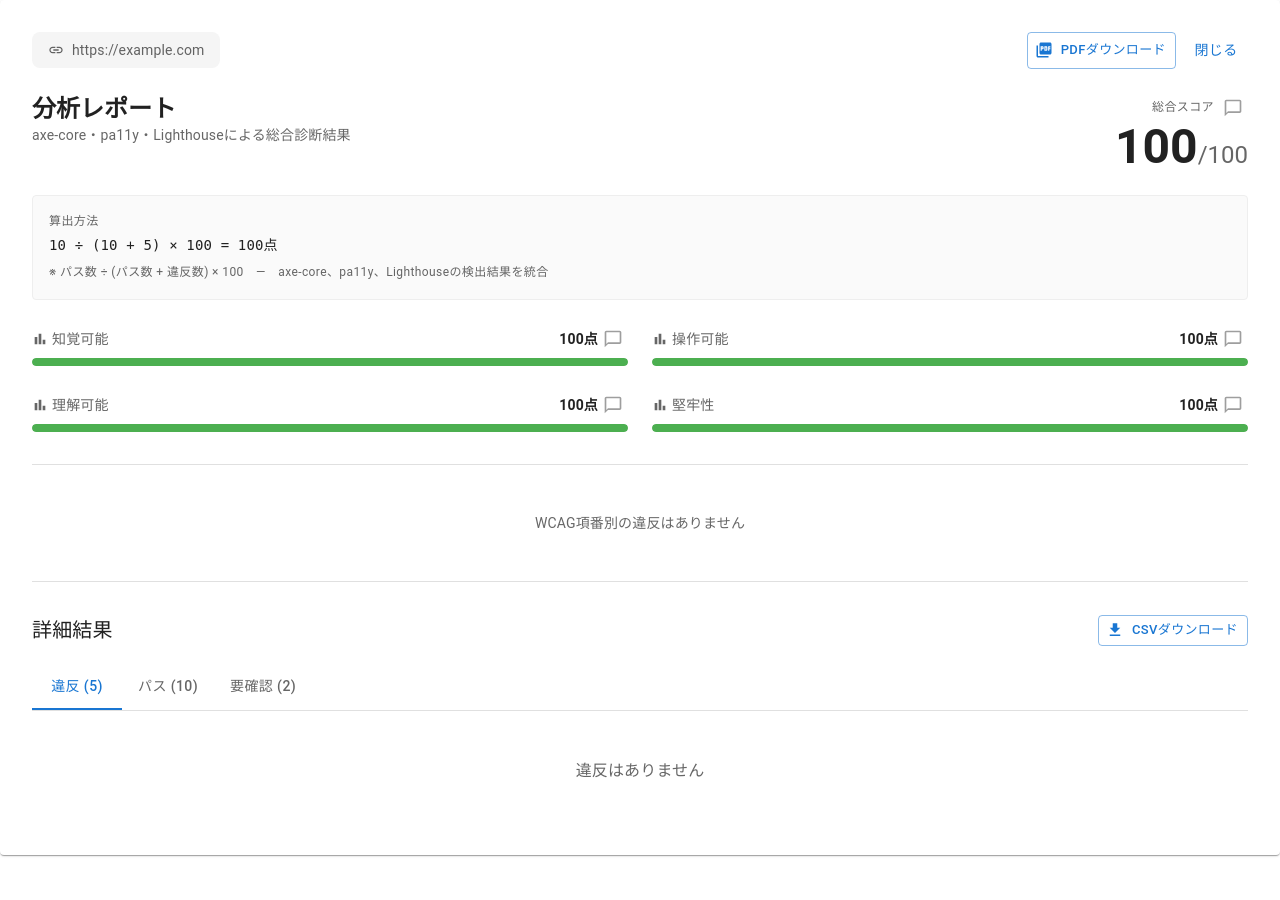
ReportSummary › Task 5: UI統合 - レポートPDFダウンロードボタン › Task 5.4: エラーハンドリングと再試行機能 › PDF生成成功時にSnackbarで成功メッセージが表示されること
Click the button "PDFダウンロード".
click(1101, 50)  # box [1027,32,1176,68]
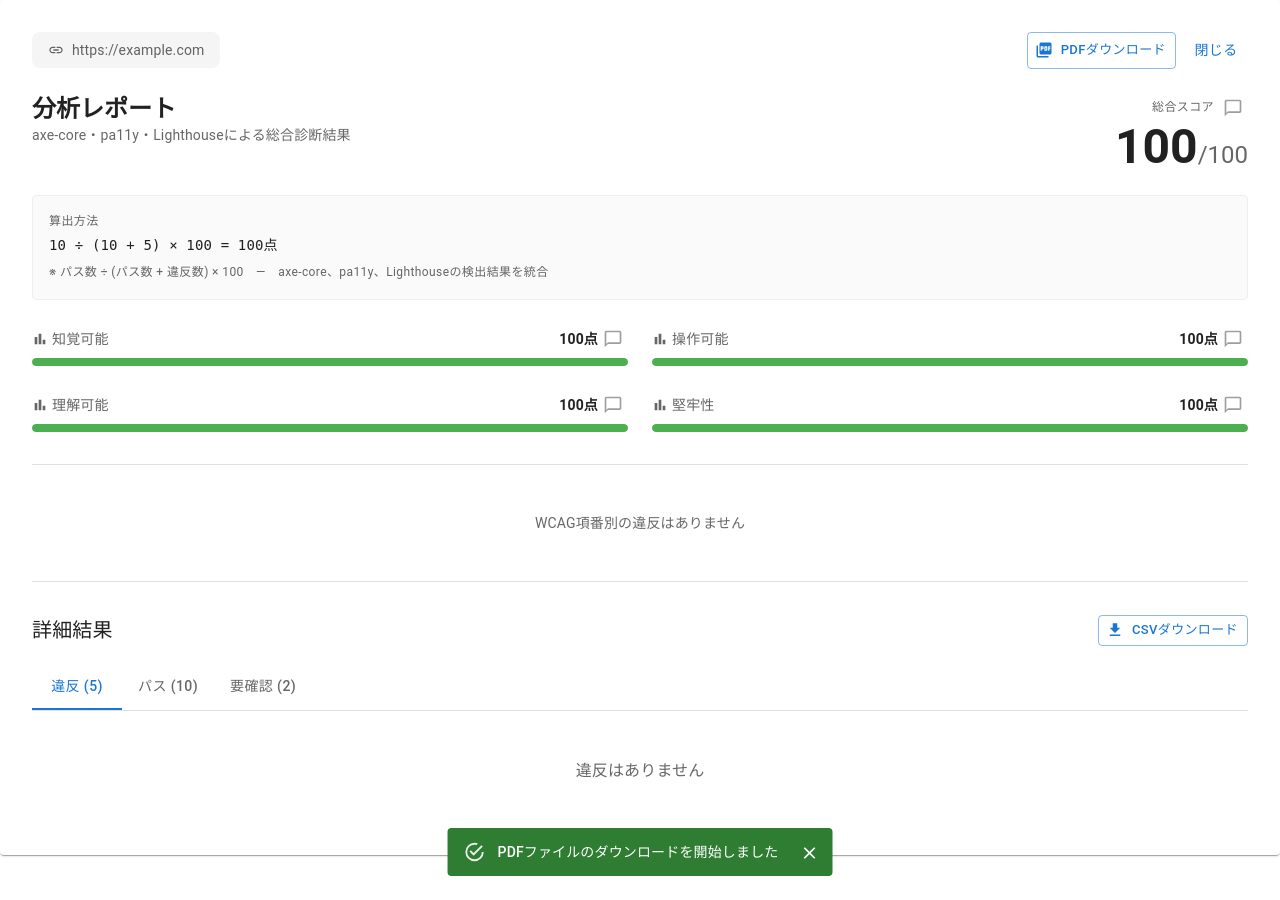
expect the message "PDFファイルのダウンロードを開始しました" is shown: met, box [448,828,832,876]
expect the text "PDFファイルのダウンロードを開始しました" is shown: met, box [498,844,778,860]
